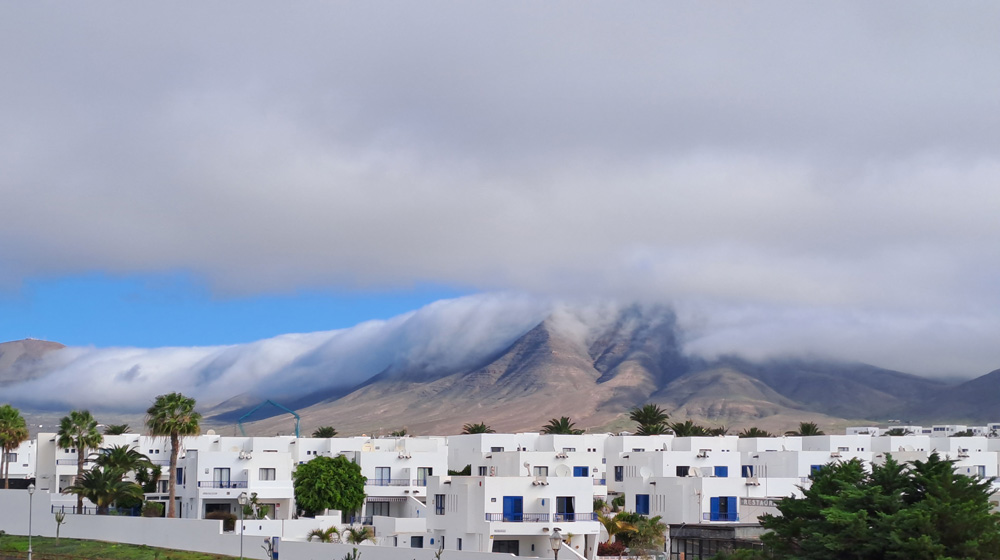Stratus: (5, 5, 996, 269), (54, 295, 1000, 398)
